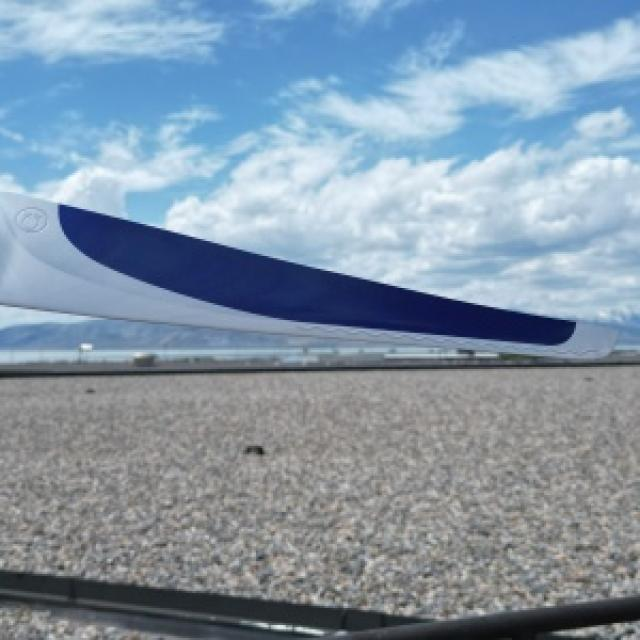healthy: (0, 192, 612, 356)
